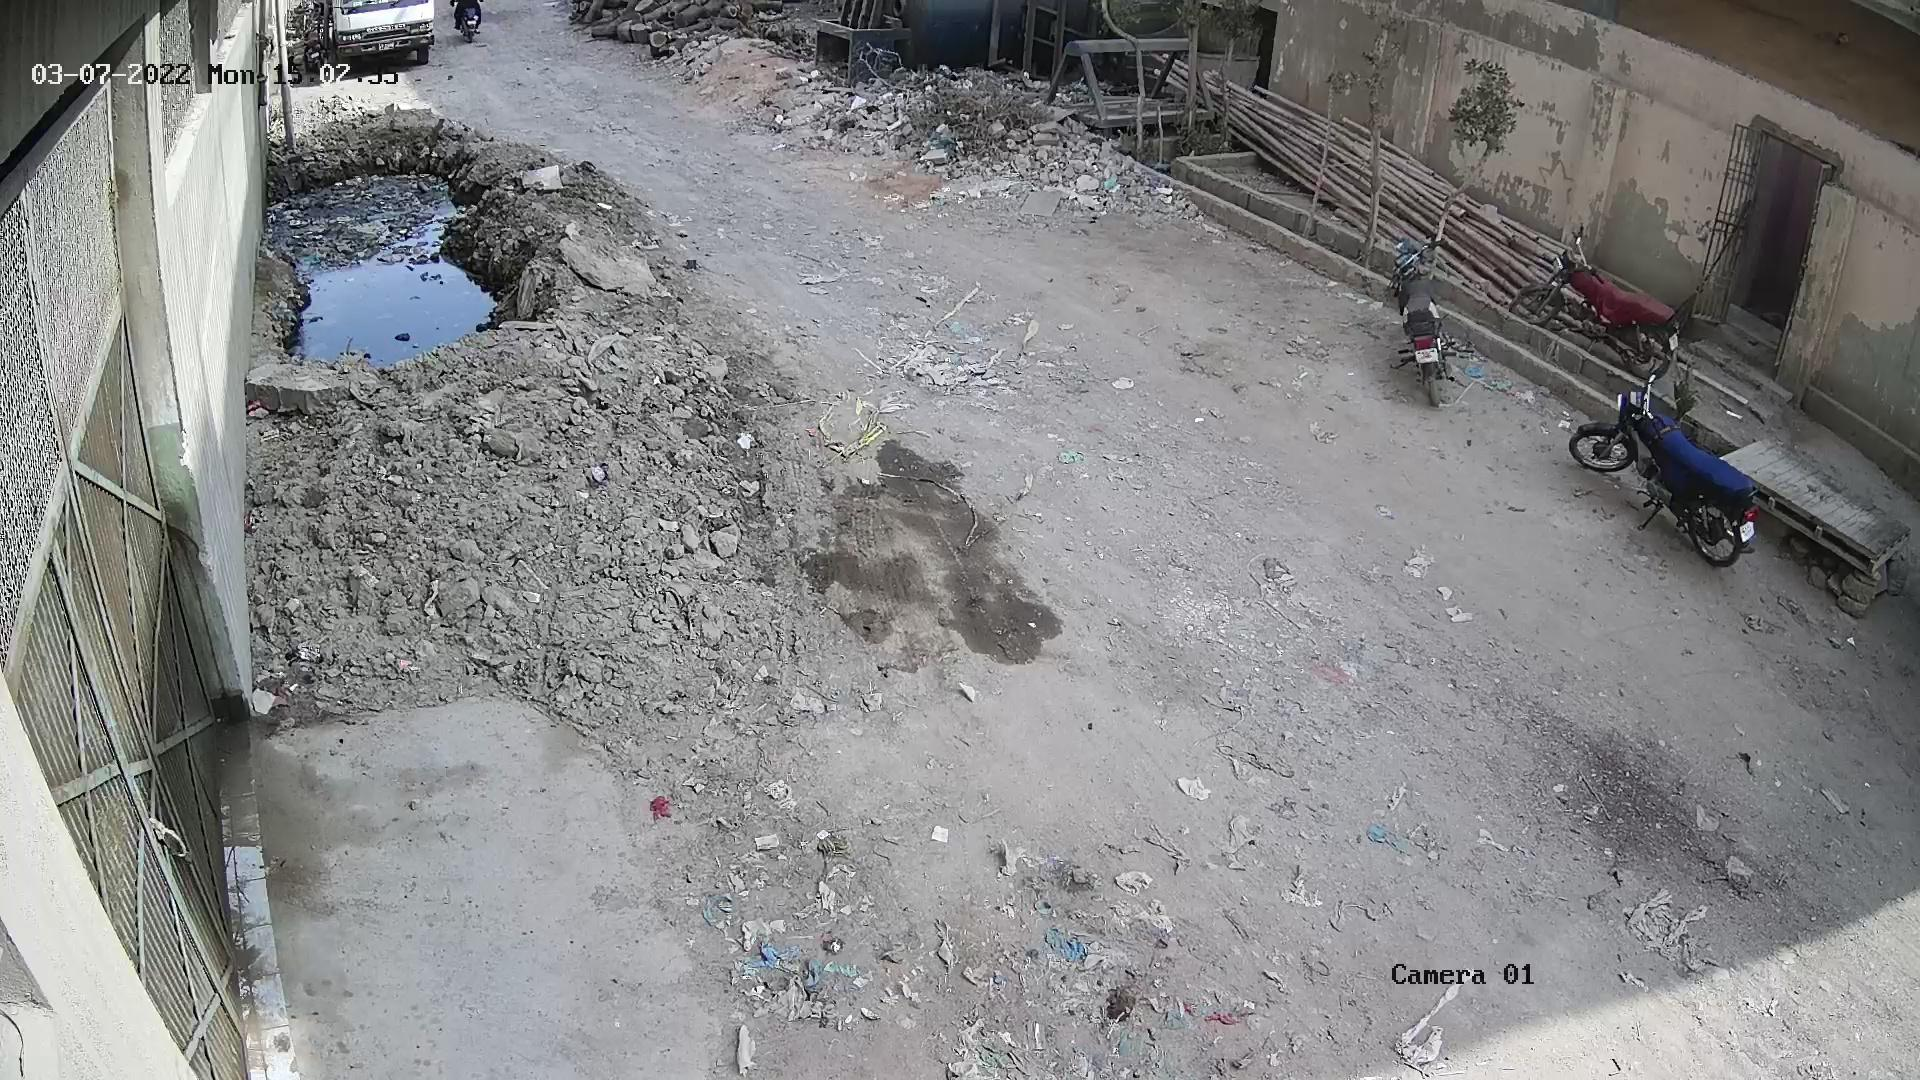Ltv: (315, 0, 455, 76)
bike: (1564, 331, 1766, 570), (1506, 232, 1701, 369), (1386, 211, 1461, 400), (443, 0, 489, 49)
